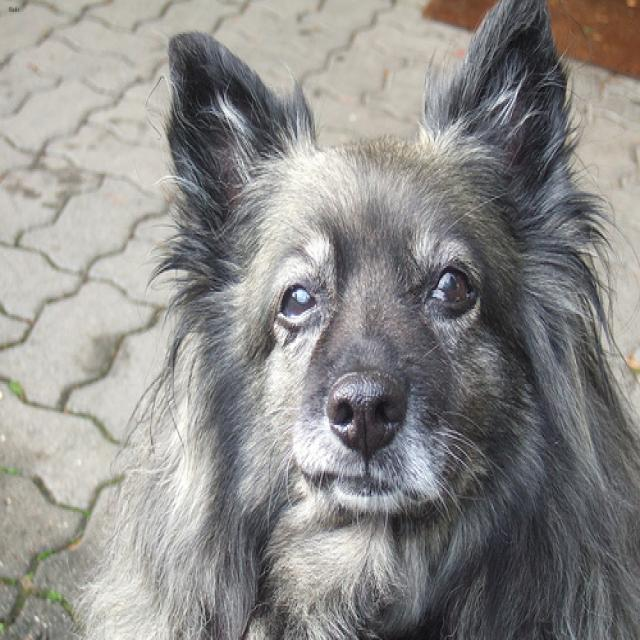dog-keeshond: (65, 2, 637, 637)
